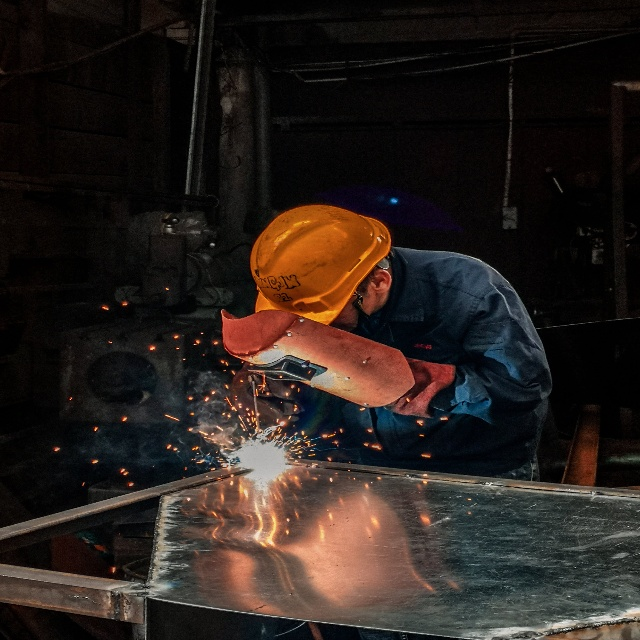Guantes: (229, 360, 304, 433), (390, 361, 458, 422)
